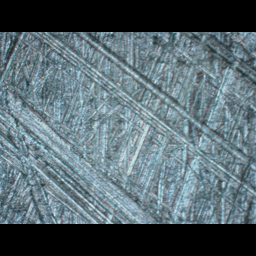d: (1, 32, 255, 223)
